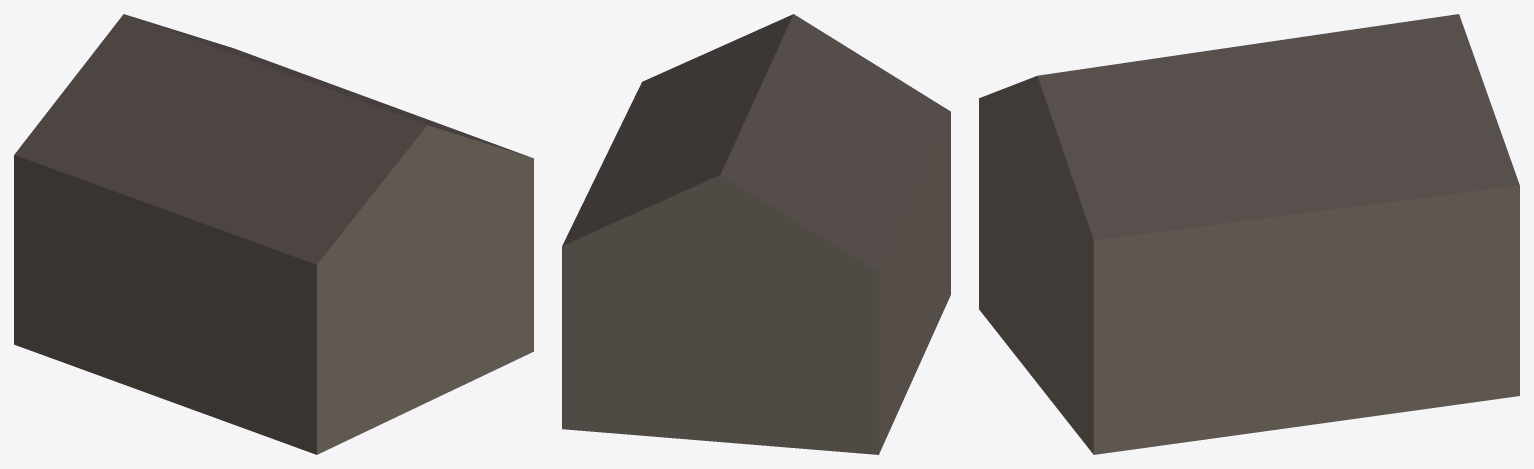
The picture shows the model from 3 angles, left to right: view 1: azimuth 30°, elevation 25°; view 2: azimuth 150°, elevation 25°; view 3: azimuth 270°, elevation 25°; orthographic projection. The views are drawn at different scales.
Parts seen in each view (by area): view 1: HP-w1513026711; view 2: HP-w1513026711; view 3: HP-w1513026711.
Part boxes in pixels (box(x1,y1,x2,y2)): HP-w1513026711: box(14, 14, 533, 454); HP-w1513026711: box(562, 14, 950, 454); HP-w1513026711: box(979, 14, 1519, 454).
Bounding box in the file's own units: 12.66 × 8.77 × 13.96.
